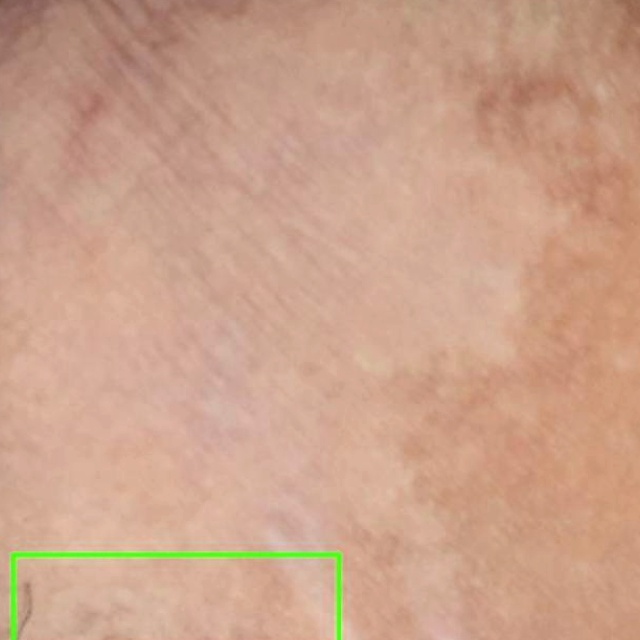Contact Dermatitis: (13, 554, 339, 639)
